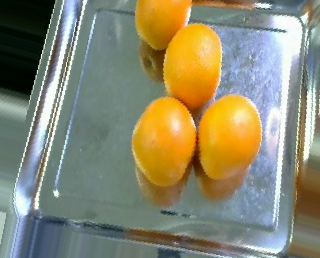Orange: (131, 97, 196, 187), (196, 93, 261, 181), (162, 22, 222, 110)
